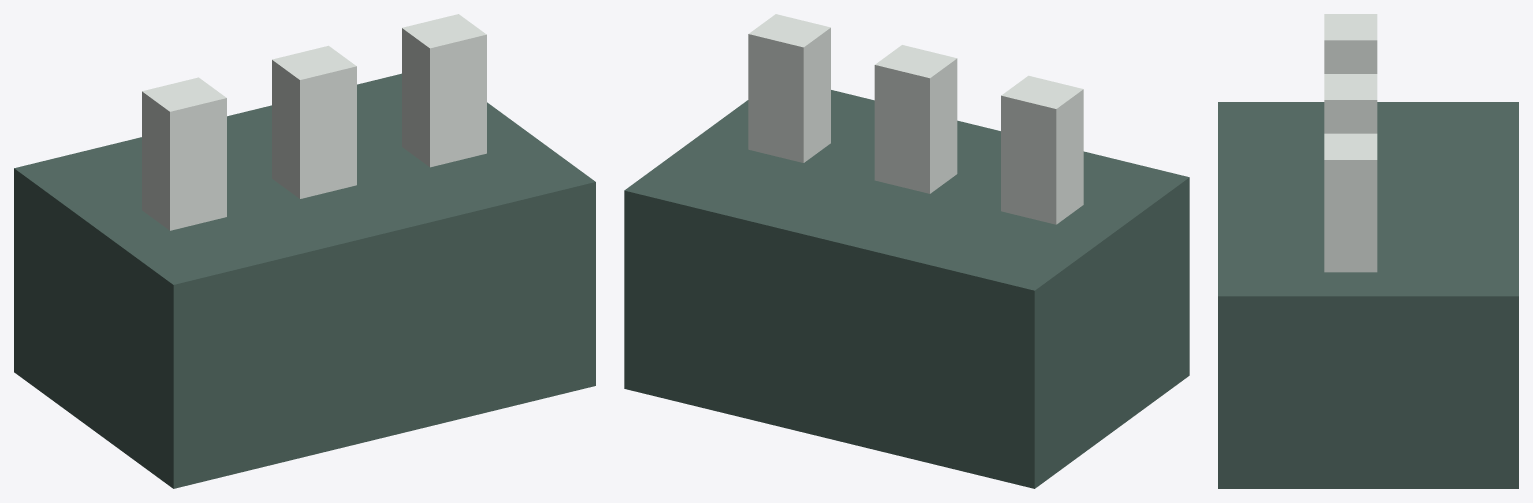
Rendered from product_crate.glb.
3 views of the same model, side by side, from view 1: azimuth 30°, elevation 25°; view 2: azimuth 150°, elevation 25°; view 3: azimuth 270°, elevation 25° (orthographic). The views are drawn at different scales.
Visible parts, largest first — view 1: crate, bottle_0.16, bottle_-0.16, bottle_0; view 2: crate, bottle_0, bottle_-0.16, bottle_0.16; view 3: crate, bottle_0.16, bottle_-0.16, bottle_0.
Boxes of the visible parts, <box> form: crate: <box>14,73,595,488</box>; bottle_0.16: <box>402,14,486,167</box>; bottle_-0.16: <box>142,77,226,230</box>; bottle_0: <box>272,45,356,198</box>; crate: <box>624,90,1189,488</box>; bottle_0: <box>874,45,957,193</box>; bottle_-0.16: <box>1001,75,1083,224</box>; bottle_0.16: <box>748,14,830,162</box>; crate: <box>1218,102,1518,488</box>; bottle_0.16: <box>1324,133,1377,272</box>; bottle_-0.16: <box>1324,14,1377,73</box>; bottle_0: <box>1324,74,1377,133</box>.
Size of the model in its own units: 0.52 by 0.38 by 0.34.
